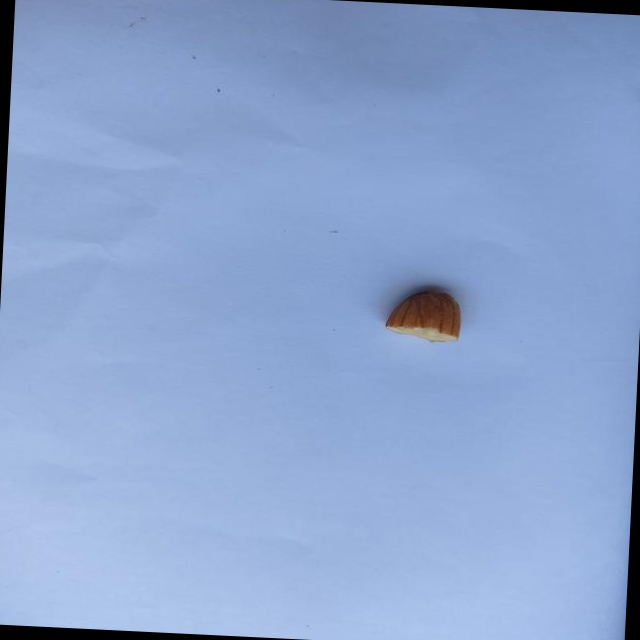grade4: (376, 281, 470, 348)
